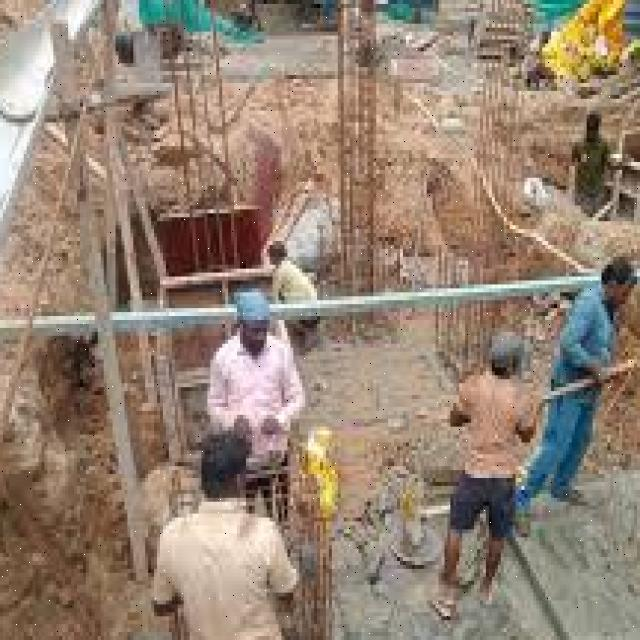Foundation: (41, 71, 640, 640)
